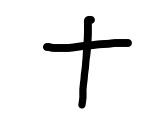plus: (43, 16, 132, 108)
